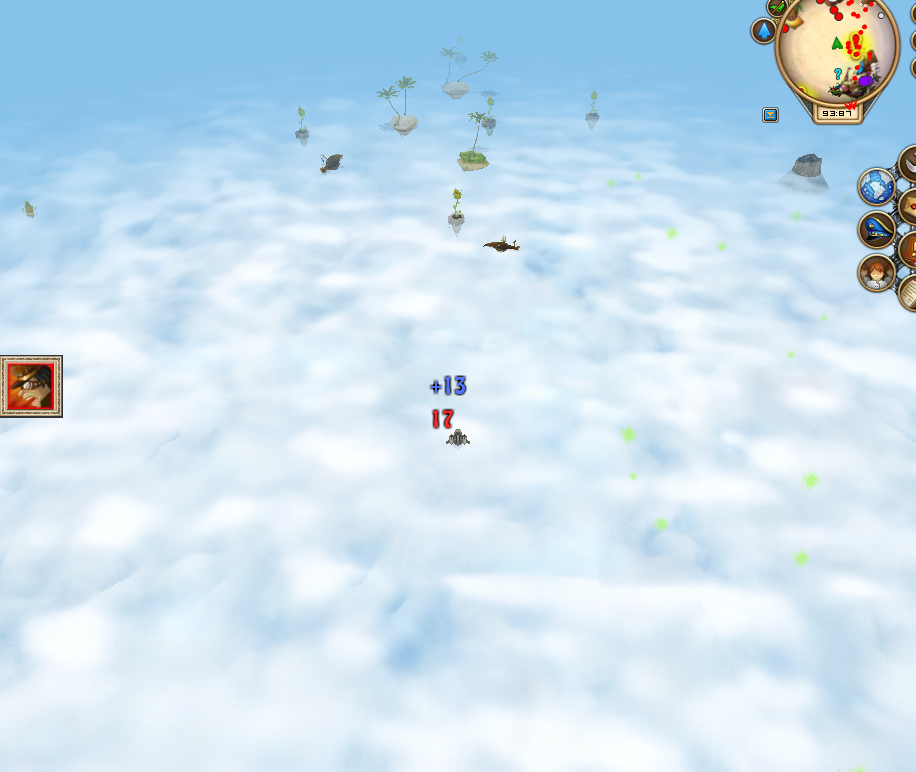palm: (435, 41, 501, 101), (372, 73, 424, 141), (455, 111, 492, 176)
